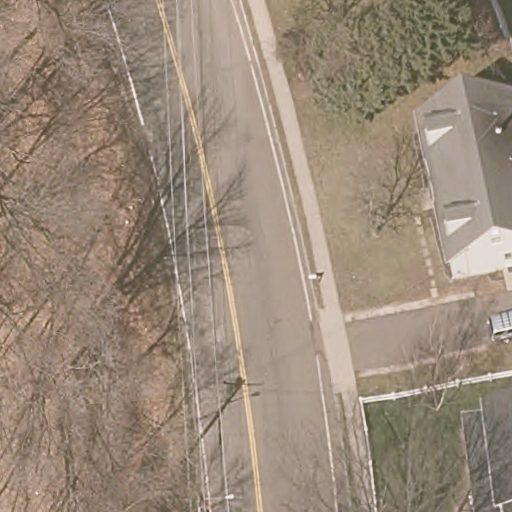DT: (190, 466, 235, 512)
